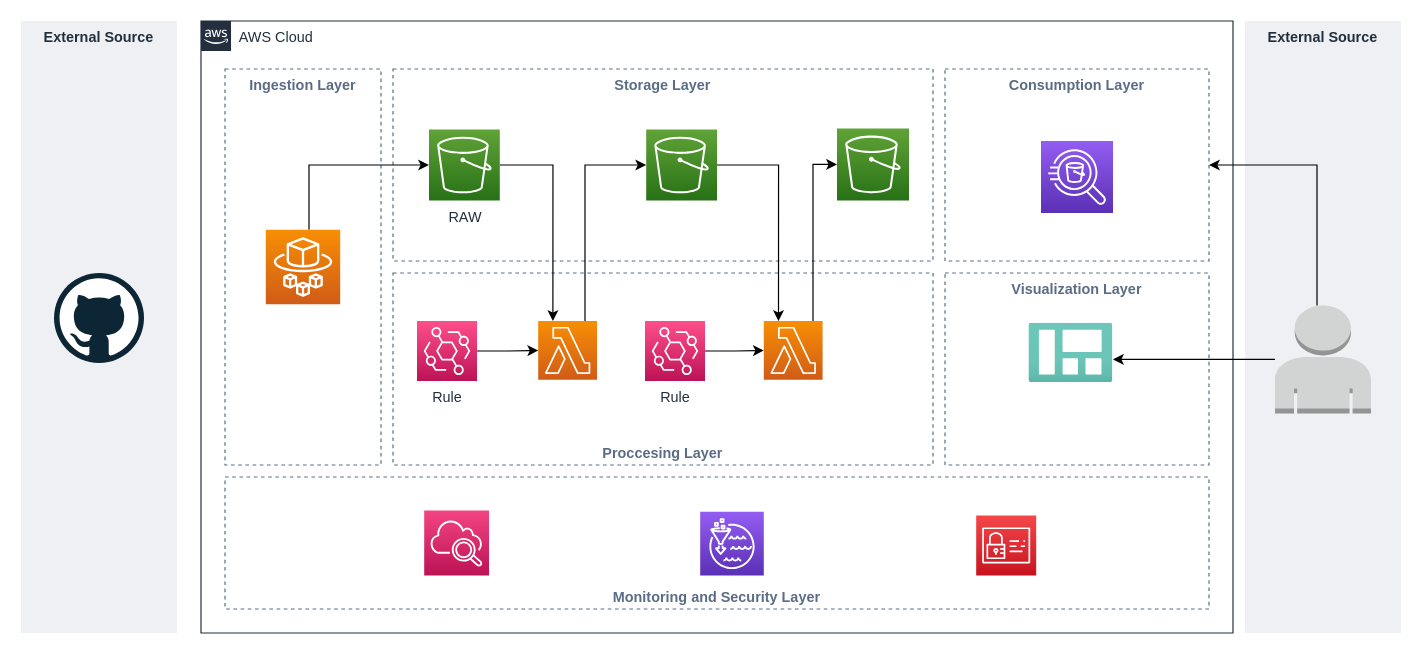
Some shapes in this 1421 by 654 pixel diagram are drawn without their labels. Each missing label, with the centre of its shape:
"ANALYTICS" belongs at [872,163].
"Dashboard Dash" belongs at [1070,352].
"Extraction" belongs at [302,266].
"STAGE" belongs at [681,164].
"Transform Analytics" belongs at [793,350].
"Transform Standarize" belongs at [567,350].
